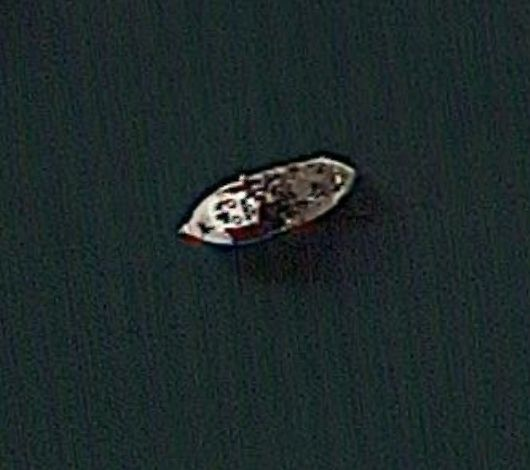boat: (175, 156, 358, 248)
